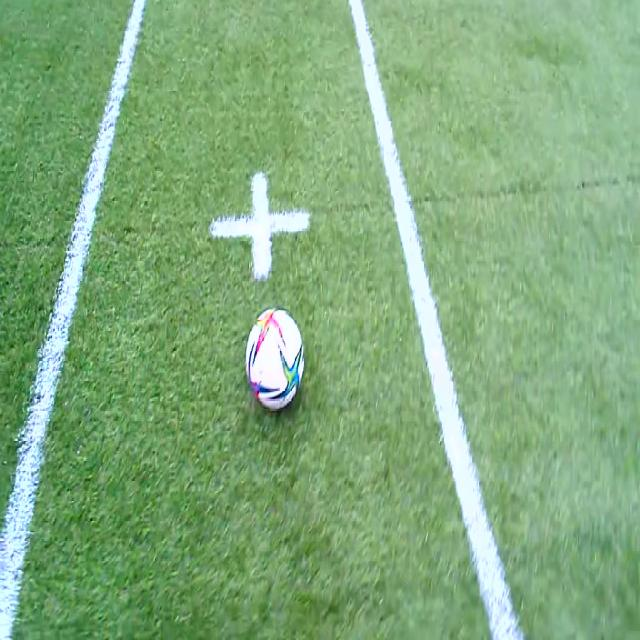ball: (246, 308, 304, 409)
